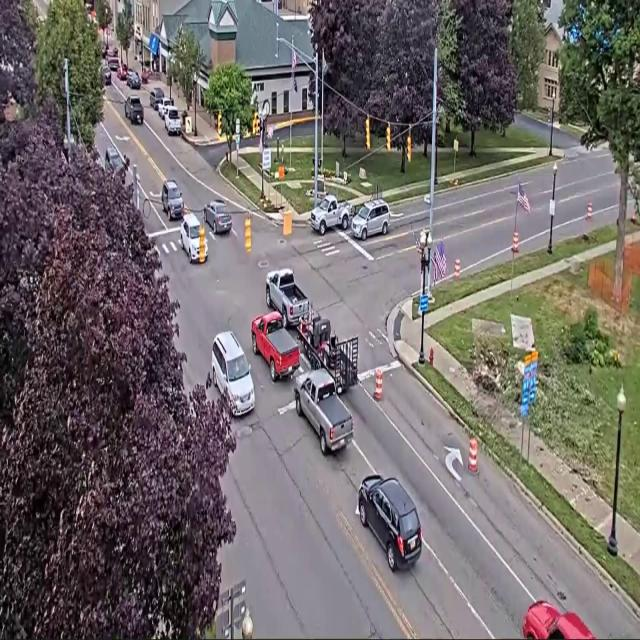car: (358, 475, 421, 571), (212, 331, 255, 415), (523, 600, 595, 639), (351, 200, 390, 239), (180, 214, 201, 263), (205, 200, 232, 235), (161, 180, 184, 220), (125, 96, 143, 124), (164, 106, 181, 135), (105, 146, 124, 171), (157, 96, 173, 118), (150, 88, 164, 110), (127, 70, 141, 89), (117, 64, 128, 80), (108, 57, 119, 71), (104, 66, 111, 85), (109, 46, 119, 58), (102, 43, 108, 58)
traffic signal: (245, 214, 251, 253), (199, 226, 205, 263), (252, 112, 259, 135), (366, 117, 370, 150), (217, 112, 222, 137), (386, 125, 390, 150), (407, 136, 411, 161), (548, 106, 552, 125)
truck: (297, 310, 358, 393), (294, 370, 353, 455), (251, 312, 299, 382), (266, 269, 309, 327), (310, 195, 351, 235)
